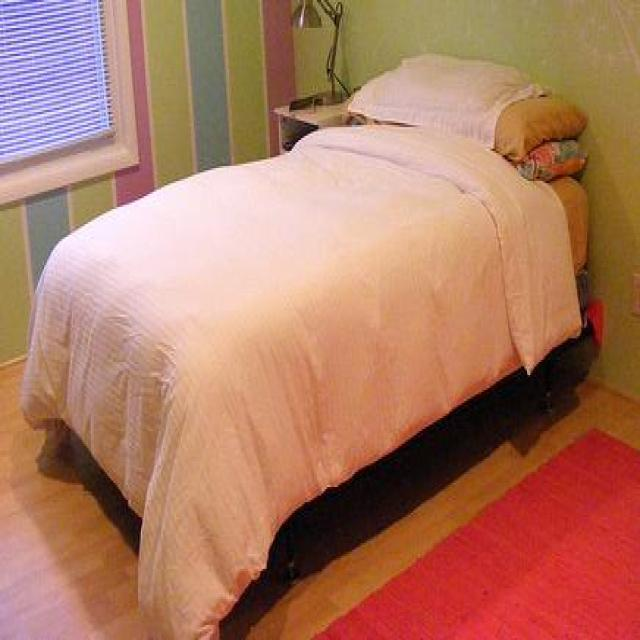bed: (17, 57, 594, 640)
